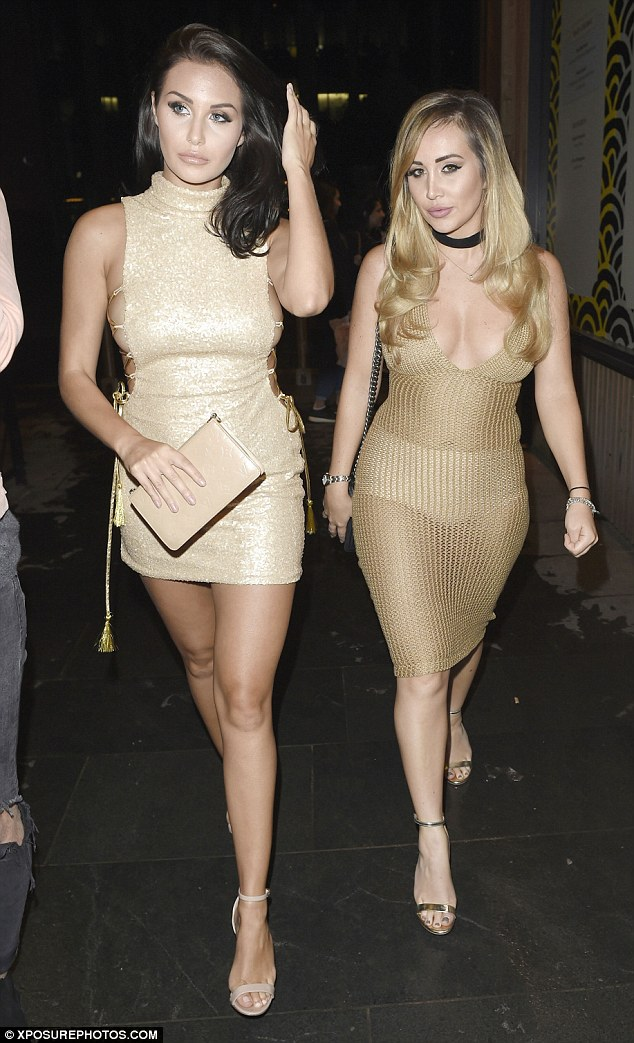Person: (51, 14, 348, 1039), (321, 87, 607, 945)
